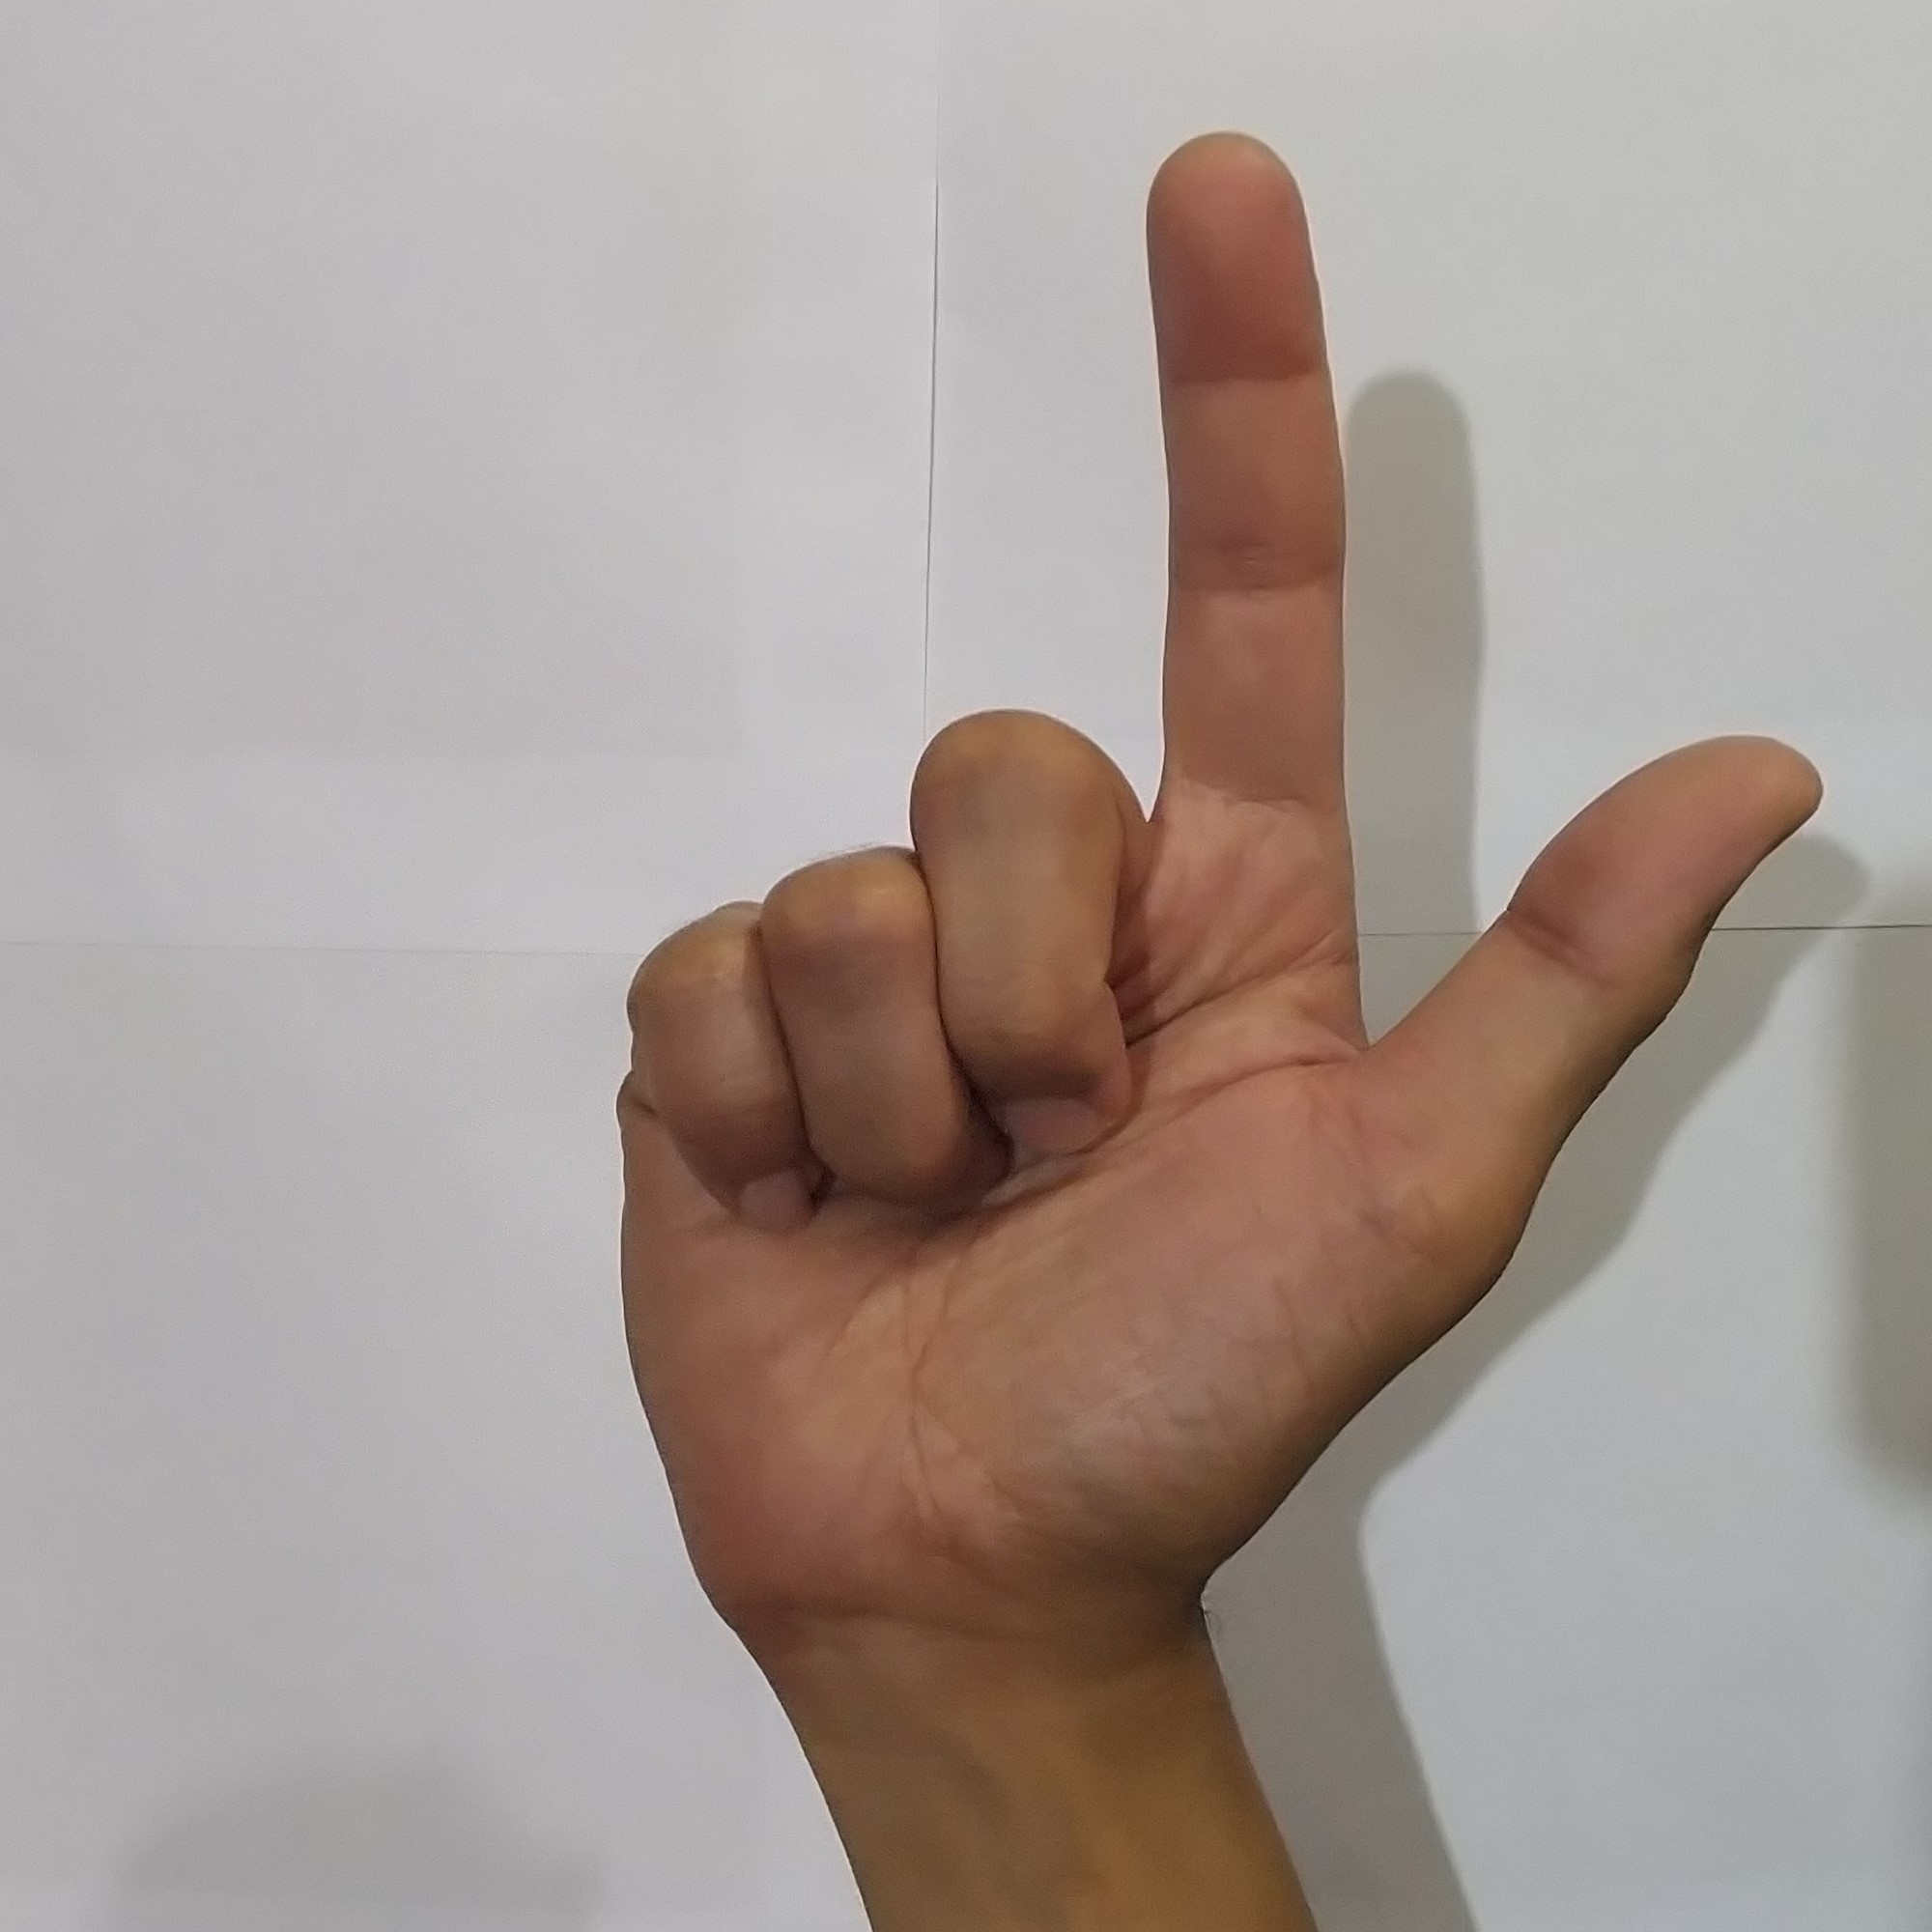L: (580, 106, 1852, 1585)
